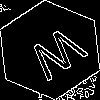W: (25, 25, 95, 90)
